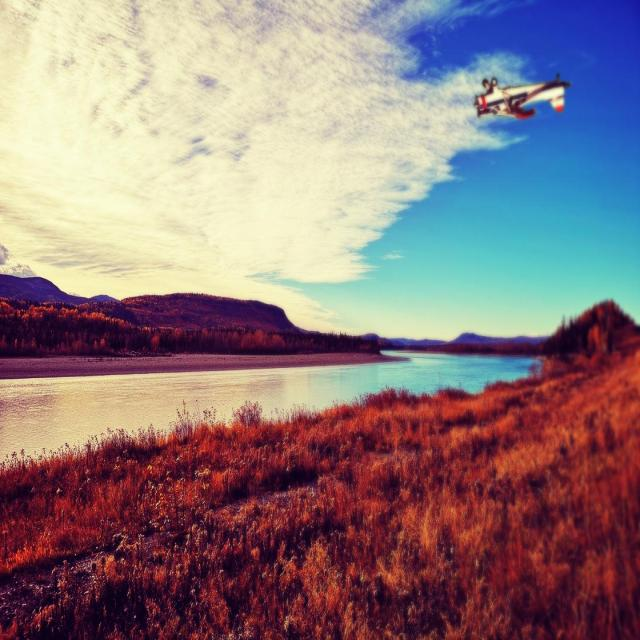airplane: (473, 72, 571, 119)
